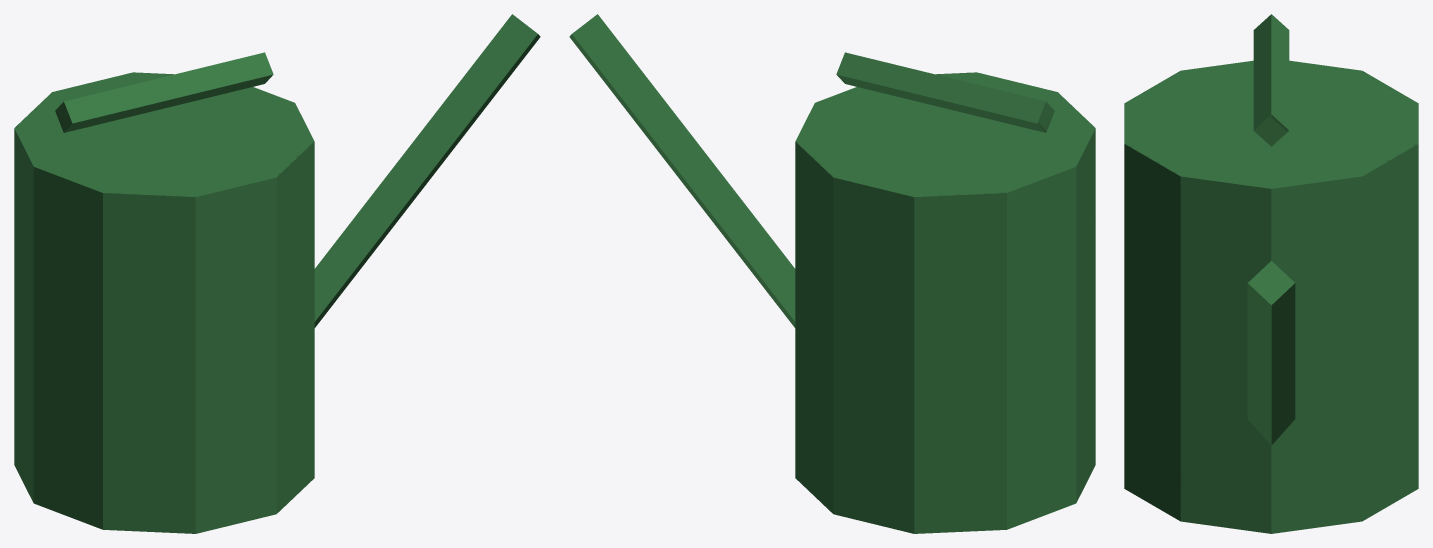
The model's file is konev_99914b93.glb.
3 renders of one model, left to right at view 1: azimuth 30°, elevation 25°; view 2: azimuth 150°, elevation 25°; view 3: azimuth 270°, elevation 25°, orthographic. The views are drawn at different scales.
Parts seen in each view (by area): view 1: dum; view 2: dum; view 3: dum.
Part boxes in pixels (bbox=[...]): dum: bbox=[14, 14, 540, 533]; dum: bbox=[569, 14, 1095, 533]; dum: bbox=[1124, 14, 1418, 533].
Bounding box in the file's own units: 0.5029 × 0.374 × 0.2467.
Materials: 1 (1 with a texture image).
